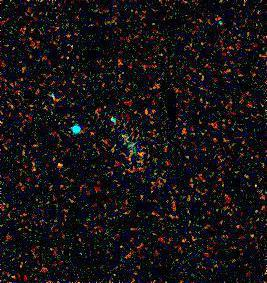star: (46, 150, 76, 180)
